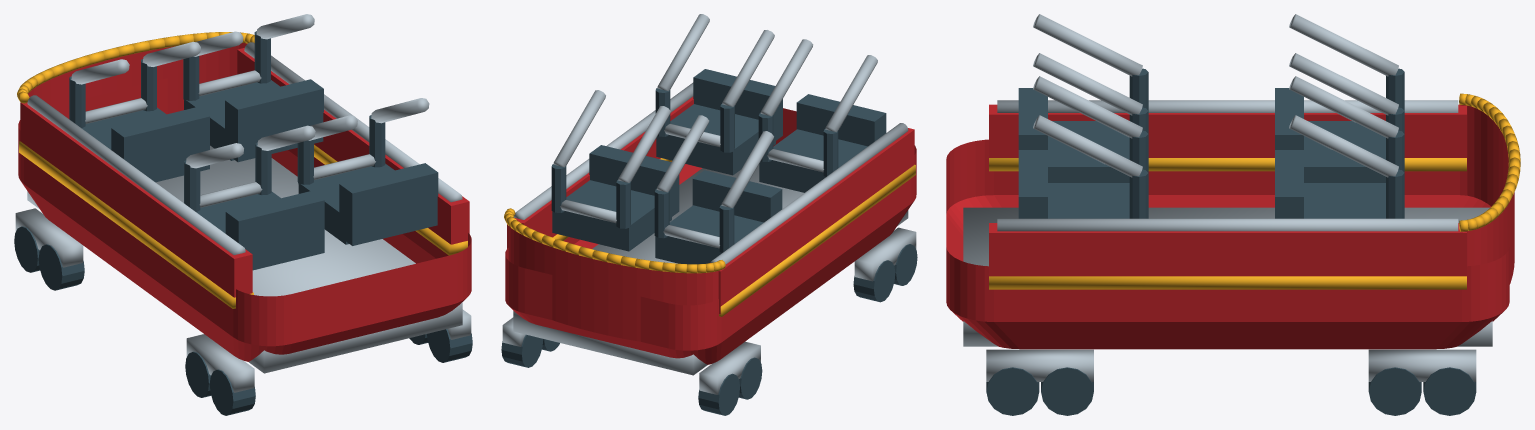
The model's file is coaster-car.glb.
3 renders of one model, left to right at view 1: azimuth 30°, elevation 25°; view 2: azimuth 150°, elevation 25°; view 3: azimuth 270°, elevation 25°, orthographic. The views are drawn at different scales.
Parts seen in each view (by area): view 1: TrainCar Ruby red train body, TrainCar Midnight blue rubber and seats, TrainCar Brushed metal hardware, TrainCar Sun yellow enamel rails; view 2: TrainCar Ruby red train body, TrainCar Midnight blue rubber and seats, TrainCar Brushed metal hardware, TrainCar Sun yellow enamel rails; view 3: TrainCar Ruby red train body, TrainCar Brushed metal hardware, TrainCar Midnight blue rubber and seats, TrainCar Sun yellow enamel rails.
Boxes of the visible parts, bbox=[...] form: TrainCar Ruby red train body: bbox=[18, 43, 471, 361]; TrainCar Midnight blue rubber and seats: bbox=[14, 31, 472, 415]; TrainCar Brushed metal hardware: bbox=[15, 14, 471, 392]; TrainCar Sun yellow enamel rails: bbox=[17, 32, 467, 308]; TrainCar Ruby red train body: bbox=[505, 96, 916, 364]; TrainCar Midnight blue rubber and seats: bbox=[501, 69, 917, 415]; TrainCar Brushed metal hardware: bbox=[502, 14, 916, 394]; TrainCar Sun yellow enamel rails: bbox=[504, 158, 915, 316]; TrainCar Ruby red train body: bbox=[946, 104, 1514, 349]; TrainCar Brushed metal hardware: bbox=[963, 14, 1492, 381]; TrainCar Midnight blue rubber and seats: bbox=[986, 68, 1476, 415]; TrainCar Sun yellow enamel rails: bbox=[989, 93, 1520, 289].
Size of the model in its own units: 1.83 by 1.85 by 3.36.
